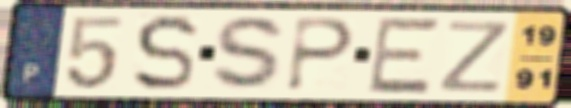5: (62, 13, 127, 91)
E: (364, 15, 444, 96)
P: (282, 15, 358, 94)
S: (208, 14, 292, 95), (130, 12, 201, 94)
Z: (436, 18, 515, 95)
